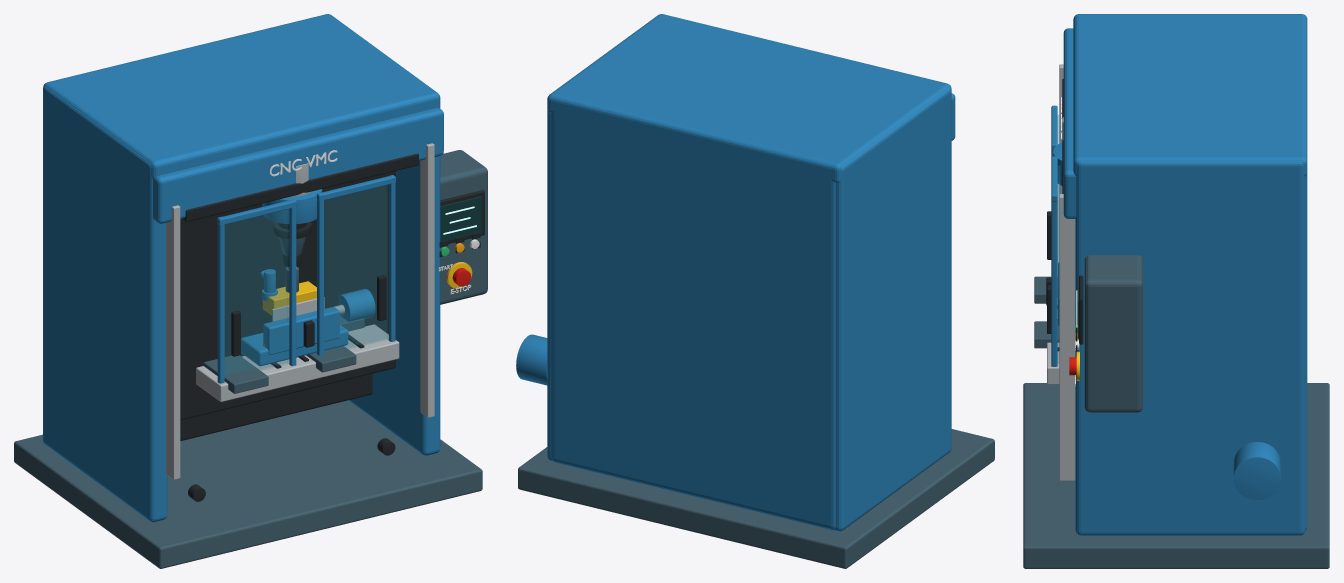
Rendered from enclosed_machine_center.glb.
3 renders of one model, left to right at view 1: azimuth 30°, elevation 25°; view 2: azimuth 150°, elevation 25°; view 3: azimuth 270°, elevation 25°, orthographic. The views are drawn at different scales.
Visible parts, largest first — view 1: MACHINE_side_panel_-1.18, MACHINE_base, MACHINE_roof, WORK_envelope, MACHINE_front_header, MACHINE_side_panel_1.18, DOOR_glazing_right, DOOR_glazing_left, CHIP_sump, MACHINE_control, WORK_table, MACHINE_door_guide_-1.1 (+16 smaller); view 2: MACHINE_back_panel, MACHINE_side_panel_-1.18, MACHINE_roof, MACHINE_base, MACHINE_side_panel_1.18, CHIP_auger_outlet; view 3: MACHINE_side_panel_1.18, MACHINE_roof, MACHINE_base, MACHINE_control, MACHINE_door_guide_1.1, CHIP_auger_outlet, MACHINE_front_header, DOOR_right_stile_0.31, MACHINE_back_panel, AXIS_way_cover_0.2, WORK_table, AXIS_way_cover_-0.56.
Part boxes in pixels (x1,y1,x2,y2): MACHINE_side_panel_-1.18: (43,86,167,522); MACHINE_base: (14,400,482,568); MACHINE_roof: (43,14,439,178); WORK_envelope: (180,171,395,420); MACHINE_front_header: (153,108,443,223); MACHINE_side_panel_1.18: (348,97,440,455); DOOR_glazing_right: (324,185,387,351); DOOR_glazing_left: (225,209,288,375); CHIP_sump: (180,373,372,440); MACHINE_control: (440,150,487,304); WORK_table: (196,324,399,401); MACHINE_door_guide_-1.1: (166,205,180,479); MACHINE_back_panel: (551,104,835,530); MACHINE_side_panel_-1.18: (835,87,951,531); MACHINE_roof: (547,14,951,183); MACHINE_base: (518,429,994,568); MACHINE_side_panel_1.18: (547,98,553,461); CHIP_auger_outlet: (516,334,547,385); MACHINE_side_panel_1.18: (1075,161,1305,535); MACHINE_roof: (1073,14,1307,176); MACHINE_base: (1023,383,1329,568); MACHINE_control: (1084,255,1142,412); MACHINE_door_guide_1.1: (1059,194,1075,480); CHIP_auger_outlet: (1233,442,1280,499); MACHINE_front_header: (1063,28,1076,218); DOOR_right_stile_0.31: (1051,193,1057,366); MACHINE_back_panel: (1305,174,1307,530); AXIS_way_cover_0.2: (1034,321,1059,348); WORK_table: (1047,298,1059,384); AXIS_way_cover_-0.56: (1034,276,1057,303).
Size of the model in its own units: 3.11 by 3.18 by 2.2.
